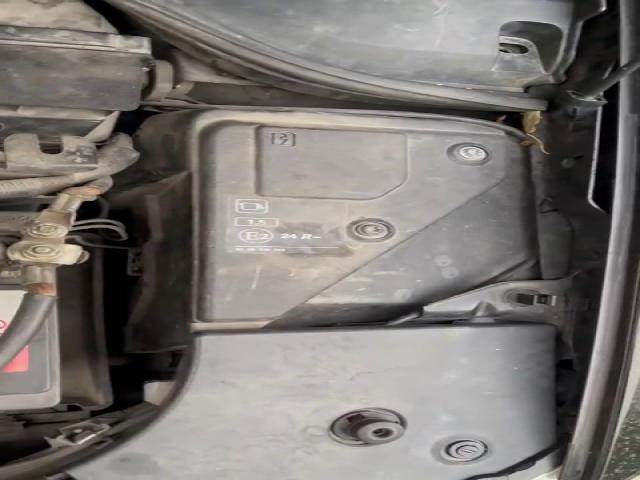accumulator: (0, 209, 67, 410)
fuse_box: (202, 122, 527, 320)
